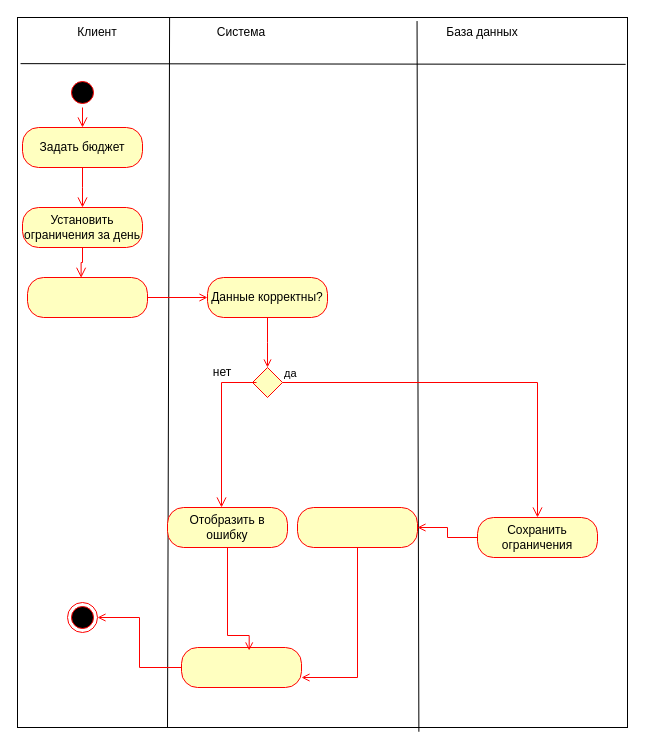
Some shapes in this 645 by 751 pixel diagram are drawn without their labels. Here are the shapes that lost their labels. From the top down, the box of each, then its label:
(26, 276, 148, 318): Включить пороговые уведомления
(296, 506, 418, 548): Отобразить изменения
(180, 646, 302, 688): Отобразить в пользовательском интерфейск
